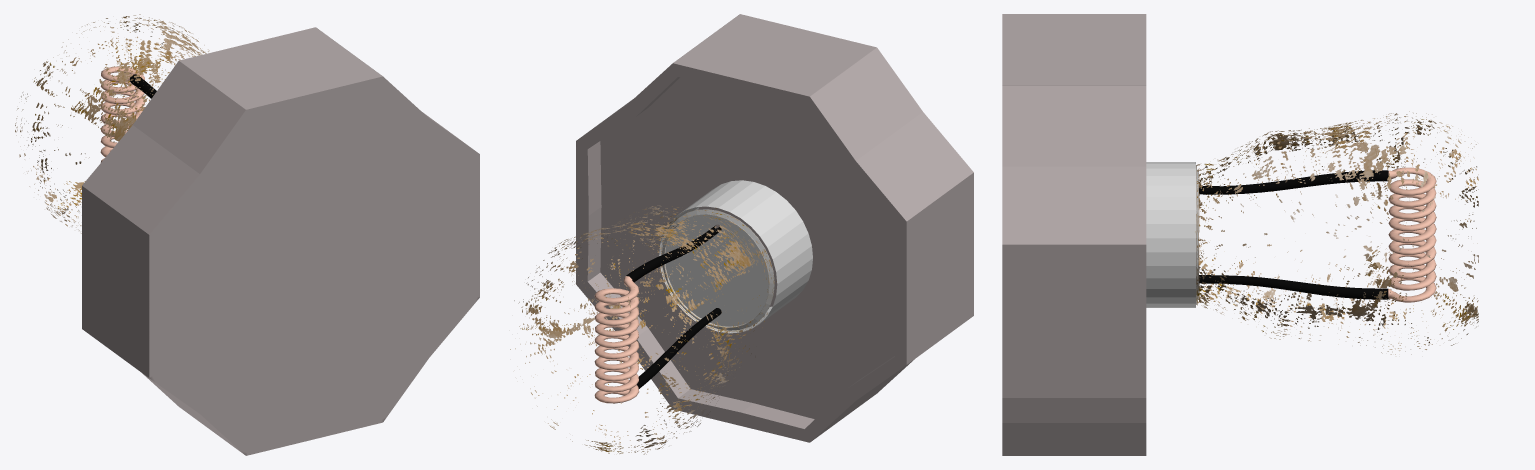
The model's file is Lightbulb.fbx.
3 renders of one model, left to right at view 1: azimuth 30°, elevation 25°; view 2: azimuth 150°, elevation 25°; view 3: azimuth 270°, elevation 25°, orthographic. The views are drawn at different scales.
Visible parts, largest first — view 1: LightBulb_model.001, LightBulb_model.002; view 2: LightBulb_model.001, LightBulb_model.002; view 3: LightBulb_model.001, LightBulb_model.002.
Boxes of the visible parts, box(x1,y1,x2,y2) form: LightBulb_model.001: box(82, 27, 479, 455); LightBulb_model.002: box(15, 14, 209, 233); LightBulb_model.001: box(576, 14, 973, 442); LightBulb_model.002: box(510, 205, 774, 454); LightBulb_model.001: box(1002, 14, 1436, 455); LightBulb_model.002: box(1196, 111, 1478, 354).
Size of the model in its own units: 0.7458 by 0.7458 by 0.9455.
